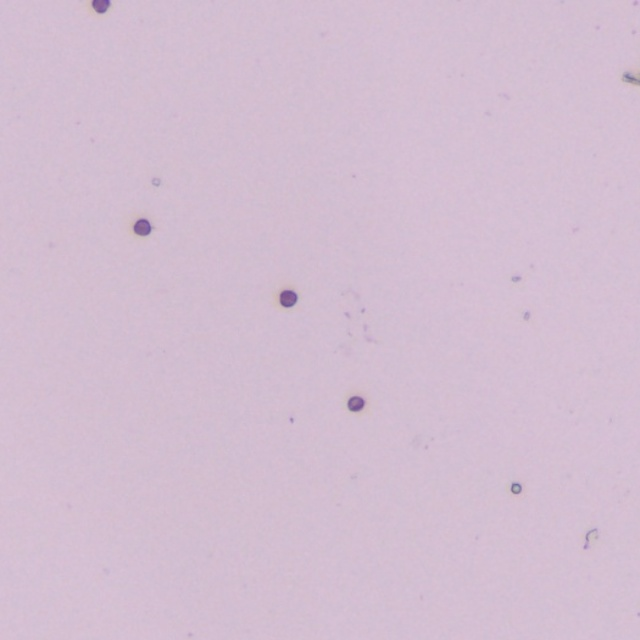non_viable: (133, 218, 151, 235), (279, 290, 296, 306), (347, 396, 364, 411), (91, 0, 109, 12)
